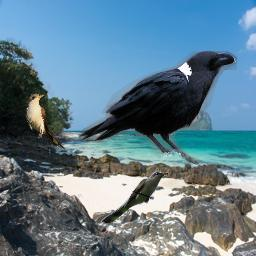Crow: (78, 51, 237, 166)
Cuckoo: (101, 171, 168, 223), (25, 93, 65, 151)
